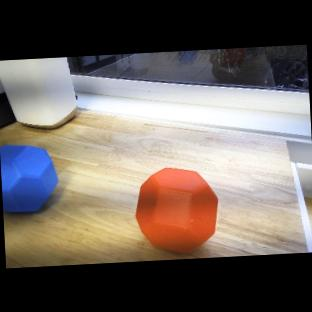V5_BLUE: (0, 141, 60, 215)
V5_RED: (133, 164, 221, 255)
